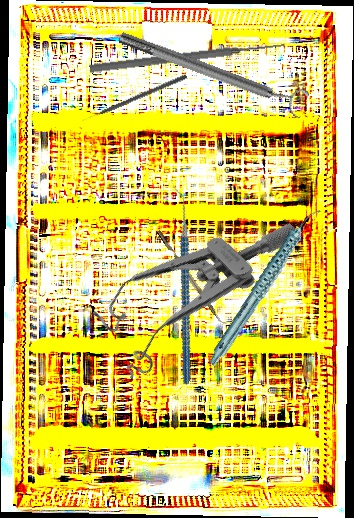Chopper: (115, 182, 247, 386), (156, 227, 229, 328)
Fixation Ring: (115, 20, 311, 122)
Handpiece: (181, 205, 349, 368)
Pusher: (89, 39, 286, 75), (80, 72, 188, 124)
Speculum: (78, 167, 302, 395)
